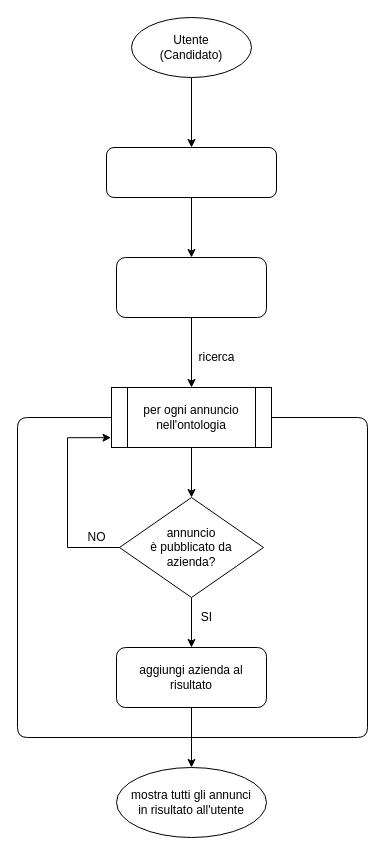
Image size: 386x855. Some labels were removed from this diagram. Each missing label, with the centre of its shape:
SIstema (Ontologia del lavoro): point 191,287
Visualizza tutti gli annunci delle aziende: point 191,172
